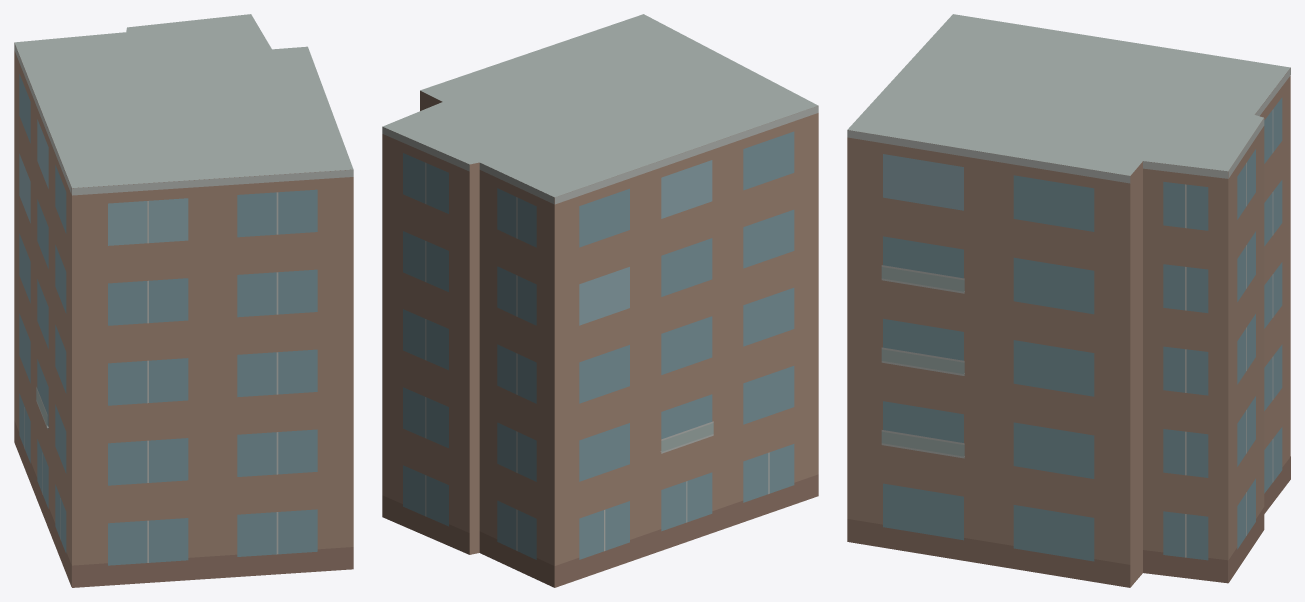
File: survey-upis-32977345.glb
The picture shows the model from 3 angles, left to right: view 1: azimuth 30°, elevation 25°; view 2: azimuth 150°, elevation 25°; view 3: azimuth 270°, elevation 25°; orthographic projection. The views are drawn at different scales.
Parts seen in each view (by area): view 1: survey-upis-32977345.tmp; view 2: survey-upis-32977345.tmp; view 3: survey-upis-32977345.tmp.
Boxes of the visible parts, bbox=[...] form: survey-upis-32977345.tmp: bbox=[14, 14, 353, 587]; survey-upis-32977345.tmp: bbox=[382, 14, 818, 587]; survey-upis-32977345.tmp: bbox=[847, 14, 1290, 587].
Bounding box in the file's own units: 11.18 × 13.25 × 12.94.
